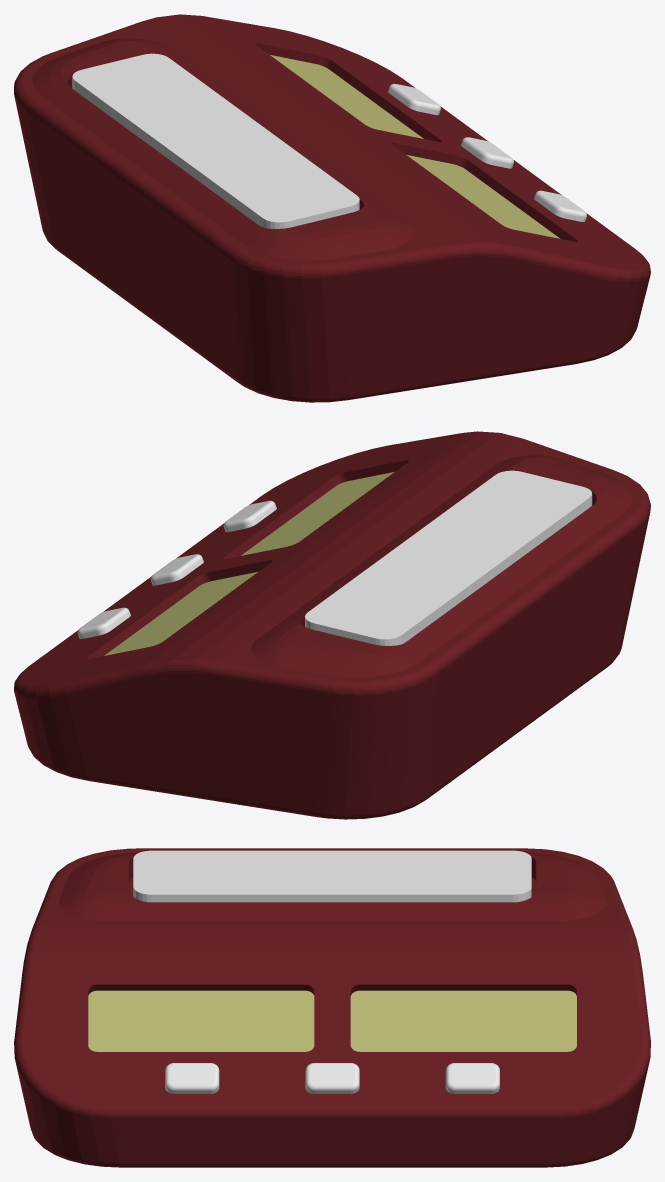
Rendered from clock.dae.
3 views of the same model, one above another, from view 1: azimuth 30°, elevation 25°; view 2: azimuth 150°, elevation 25°; view 3: azimuth 270°, elevation 25° (orthographic). The views are drawn at different scales.
Parts seen in each view (by area): view 1: Clock; view 2: Clock; view 3: Clock.
Part boxes in pixels (x1,y1,x2,y2): Clock: [14, 14, 650, 402]; Clock: [14, 431, 650, 819]; Clock: [14, 848, 650, 1167].
Bounding box in the file's own units: 0.0966 × 0.1407 × 0.0385.
